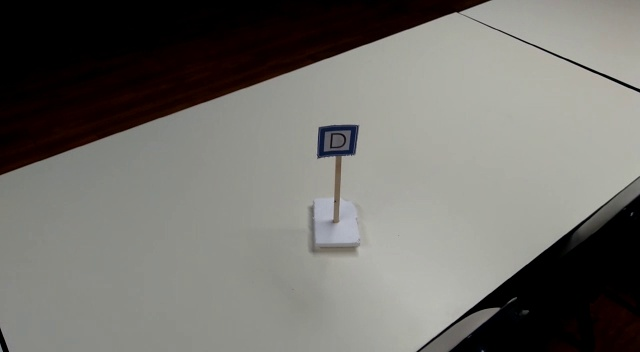durak: (317, 123, 357, 161)
